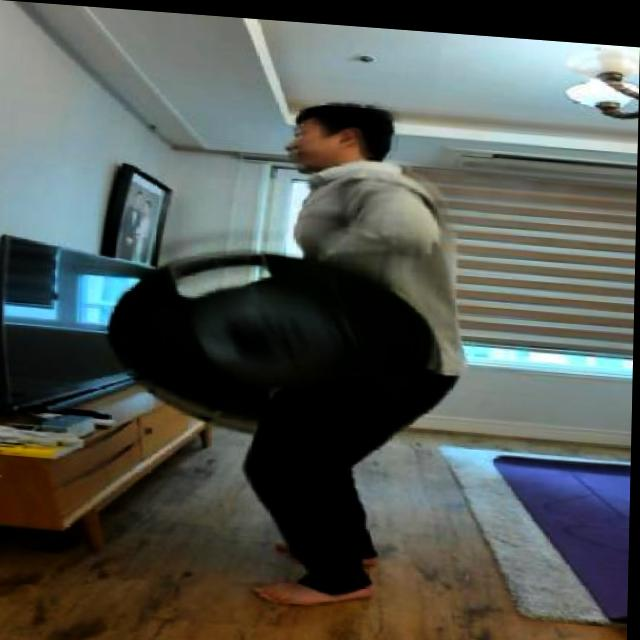barbell: (106, 238, 447, 453)
